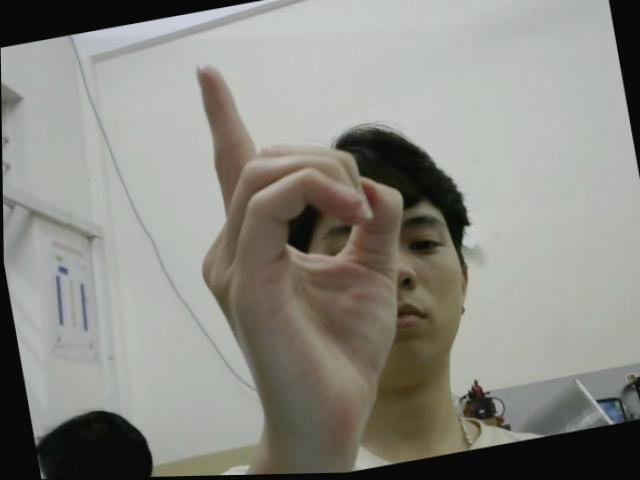D: (161, 29, 439, 448)
